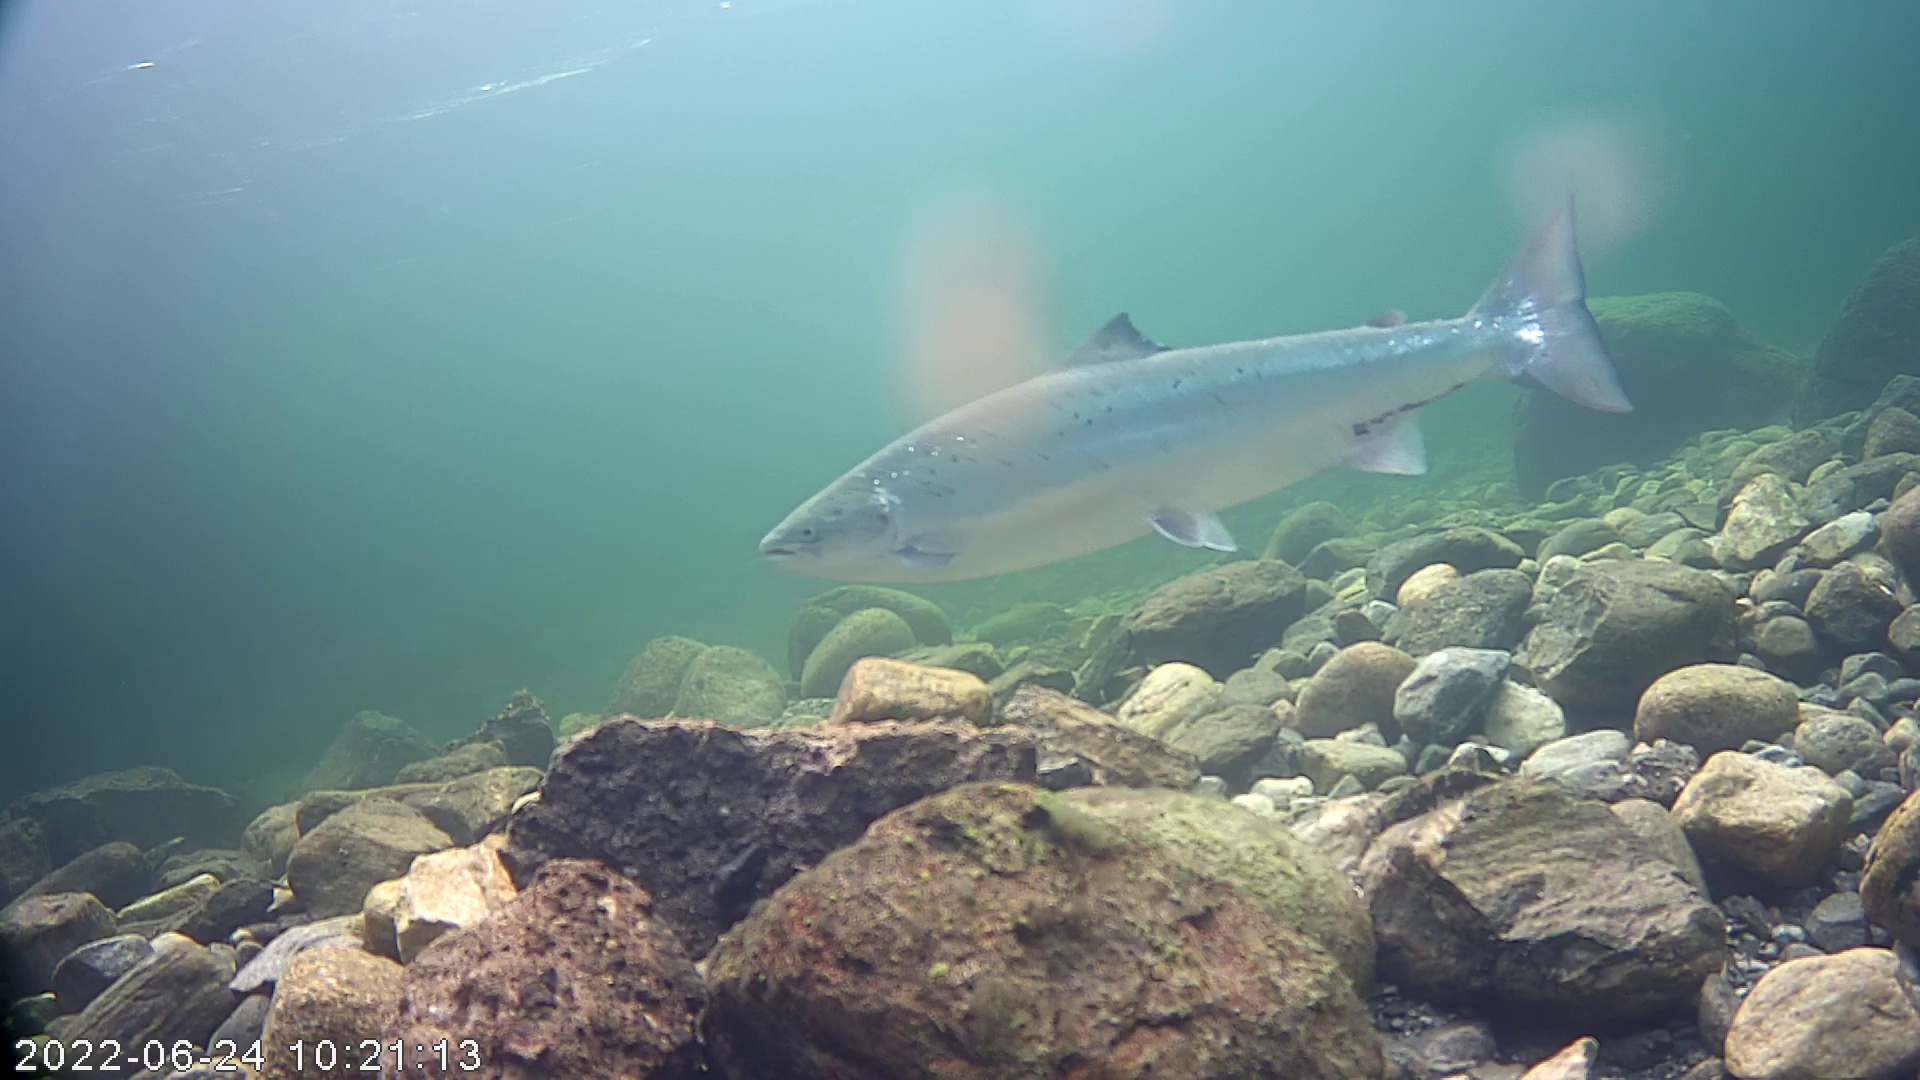salmon: (756, 189, 1635, 585)
